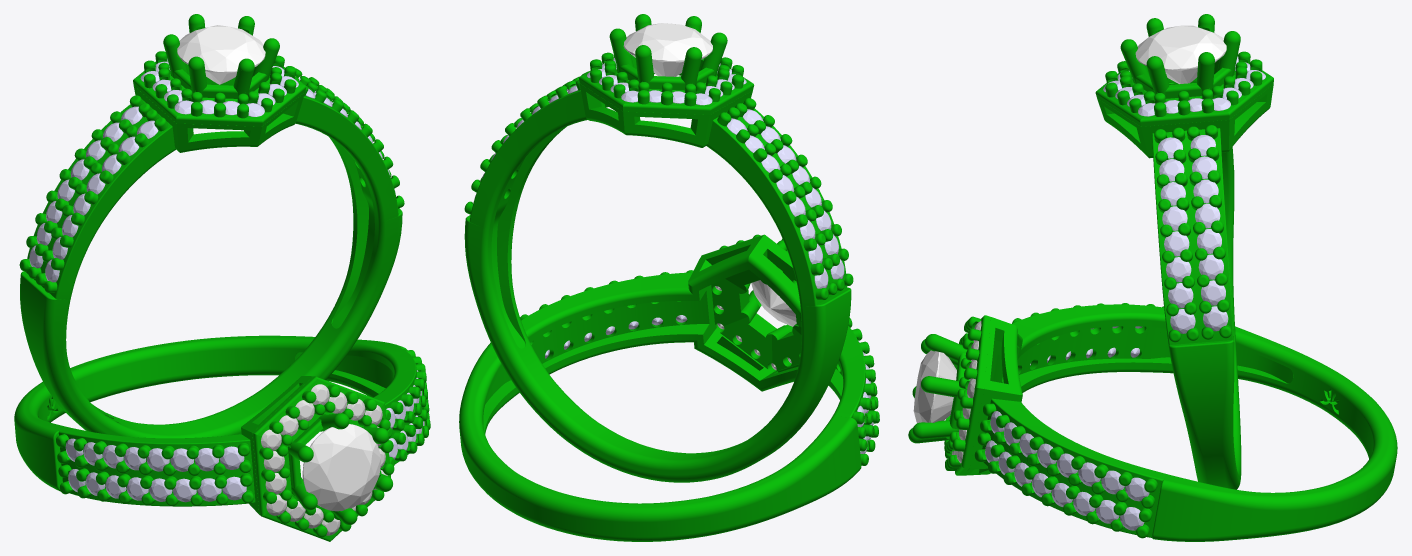
3 renders of one model, left to right at view 1: azimuth 30°, elevation 25°; view 2: azimuth 150°, elevation 25°; view 3: azimuth 270°, elevation 25°, orthographic. The views are drawn at different scales.
Visible parts, largest first — view 1: RNG-2508102.3dm; view 2: RNG-2508102.3dm; view 3: RNG-2508102.3dm.
Boxes of the visible parts, x1,y1,x2,y2 form: RNG-2508102.3dm: [14, 14, 430, 541]; RNG-2508102.3dm: [459, 14, 879, 541]; RNG-2508102.3dm: [908, 14, 1397, 541].
Bounding box in the file's own units: 2.1 × 2.41 × 2.41.
